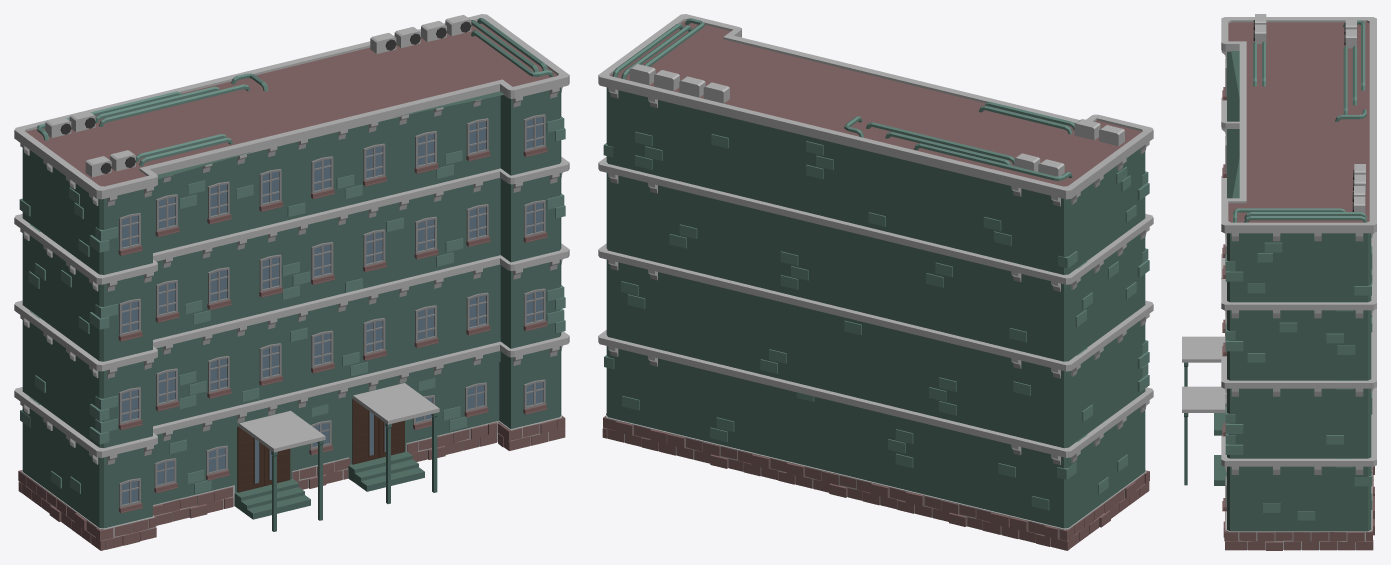
The model's file is 4Story_Wide_2Doors_Mat.glb.
3 renders of one model, left to right at view 1: azimuth 30°, elevation 25°; view 2: azimuth 150°, elevation 25°; view 3: azimuth 270°, elevation 25°, orthographic. The views are drawn at different scales.
Parts seen in each view (by area): view 1: 4Story_Wide_2Doors_Mat; view 2: 4Story_Wide_2Doors_Mat; view 3: 4Story_Wide_2Doors_Mat.
Boxes of the visible parts, x1,y1,x2,y2 form: 4Story_Wide_2Doors_Mat: [14, 14, 569, 550]; 4Story_Wide_2Doors_Mat: [598, 14, 1153, 550]; 4Story_Wide_2Doors_Mat: [1182, 14, 1376, 550].
Bounding box in the file's own units: 6.83 × 5.15 × 2.7.
